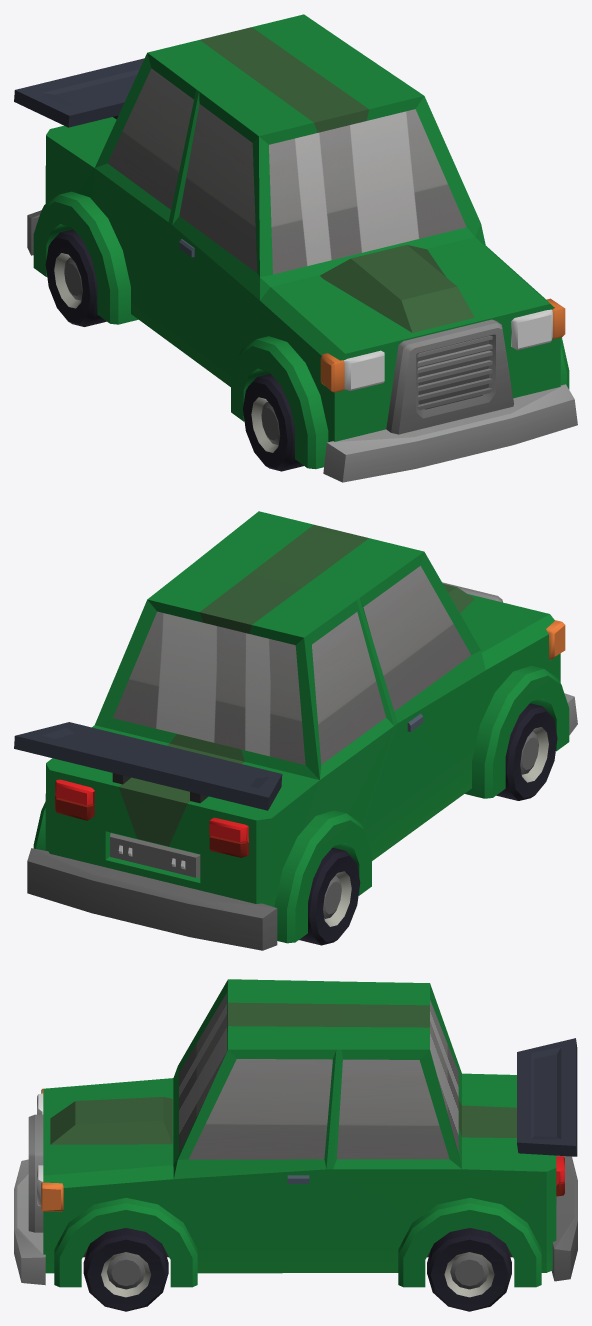
The model's file is SportCar_8.fbx.
The picture shows the model from 3 angles, top to bottom: view 1: azimuth 30°, elevation 25°; view 2: azimuth 150°, elevation 25°; view 3: azimuth 270°, elevation 25°; orthographic projection. The views are drawn at different scales.
Parts seen in each view (by area): view 1: SportCar_8, Wheel_fr, Wheel_br; view 2: SportCar_8, Wheel_br, Wheel_fr; view 3: SportCar_8, Wheel_fl, Wheel_bl.
Boxes of the visible parts, bbox=[...] form: SportCar_8: bbox=[14, 14, 577, 482]; Wheel_fr: bbox=[243, 373, 303, 471]; Wheel_br: bbox=[45, 229, 106, 326]; SportCar_8: bbox=[14, 511, 577, 950]; Wheel_br: bbox=[299, 847, 360, 945]; Wheel_fr: bbox=[496, 703, 557, 800]; SportCar_8: bbox=[14, 979, 577, 1287]; Wheel_fl: bbox=[83, 1228, 168, 1311]; Wheel_bl: bbox=[427, 1228, 511, 1311].
Bounding box in the file's own units: 112 × 110 × 233.
